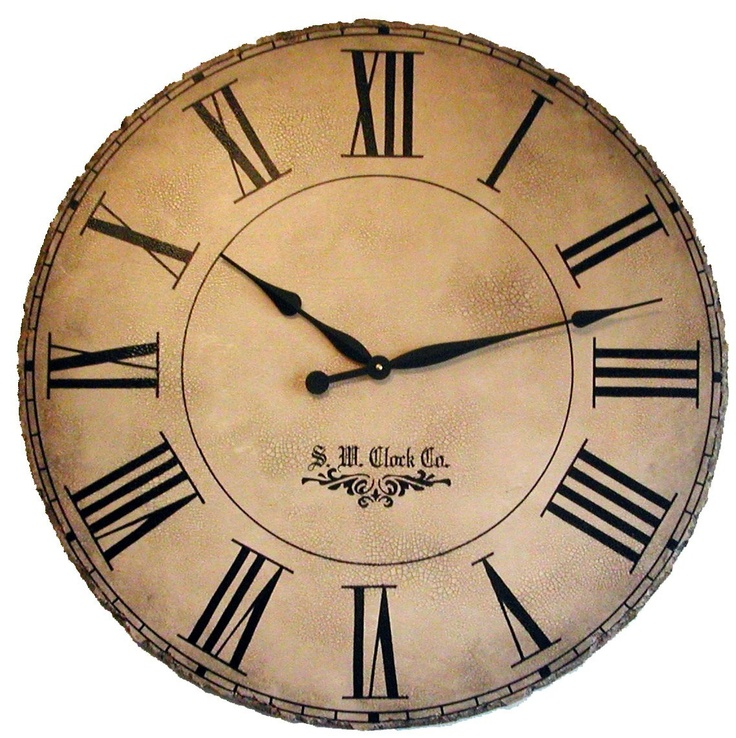clock: (7, 1, 736, 738)
